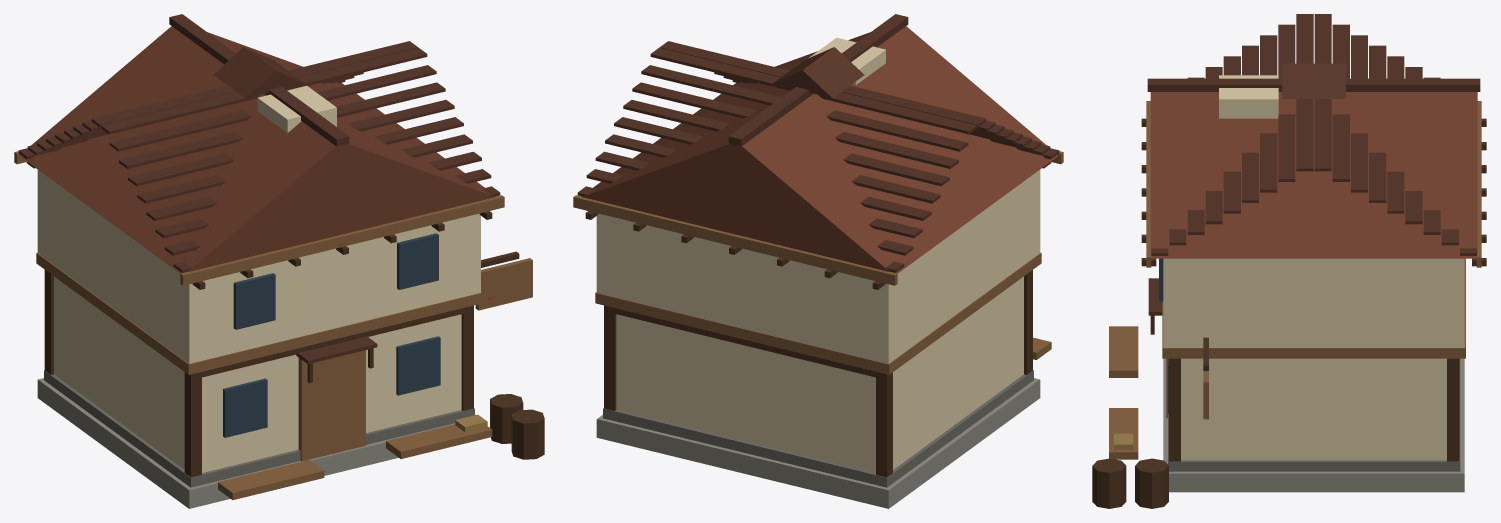
Rendered from tavern.glb.
The picture shows the model from 3 angles, left to right: view 1: azimuth 30°, elevation 25°; view 2: azimuth 150°, elevation 25°; view 3: azimuth 270°, elevation 25°; orthographic projection.
Parts seen in each view (by area): view 1: tavern; view 2: tavern; view 3: tavern.
Boxes of the visible parts, x1,y1,x2,y2 form: tavern: (14, 14, 544, 508); tavern: (573, 14, 1063, 508); tavern: (1092, 14, 1486, 508).
Size of the model in its own units: 7.65 by 6.94 by 6.93.
